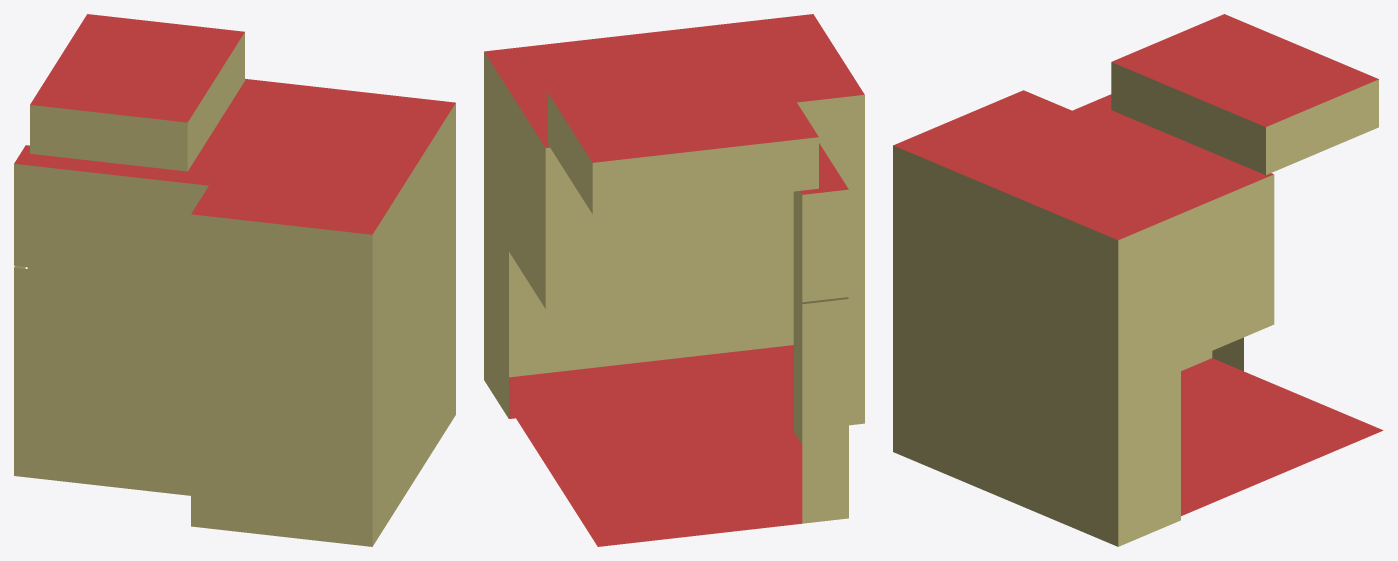
3 views of the same model, side by side, from view 1: azimuth 30°, elevation 25°; view 2: azimuth 150°, elevation 25°; view 3: azimuth 270°, elevation 25° (orthographic). The views are drawn at different scales.
Parts seen in each view (by area): view 1: group_6, group_3, group_4, group_5; view 2: group_6, group_7, group_3, group_4, group_5; view 3: group_6, group_3, group_7, group_4, group_5.
Part boxes in pixels (x1,y1,x2,y2): group_6: (14,103,455,546); group_3: (14,79,455,234); group_4: (30,14,244,122); group_5: (30,32,244,171); group_6: (484,51,864,523); group_7: (509,345,802,546); group_3: (484,14,864,194); group_4: (548,67,818,162); group_5: (548,93,818,214); group_6: (893,145,1274,546); group_3: (893,90,1273,240); group_7: (1181,358,1383,515); group_4: (1112,14,1378,126); group_5: (1111,62,1378,174).
Size of the model in its own units: 22.77 by 24.99 by 19.93.
